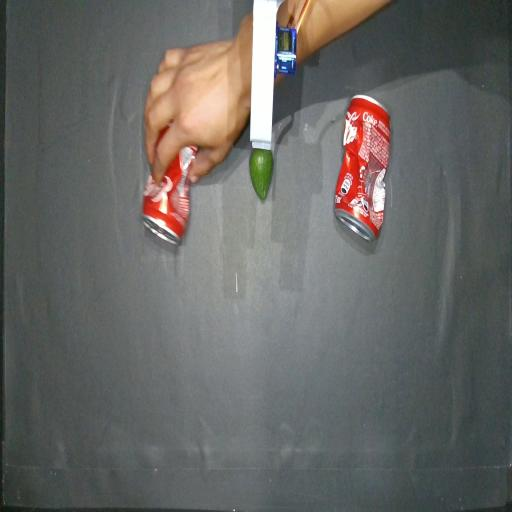higo: (250, 148, 273, 201)
lata_defectuoso: (334, 95, 390, 240), (143, 147, 197, 243)
